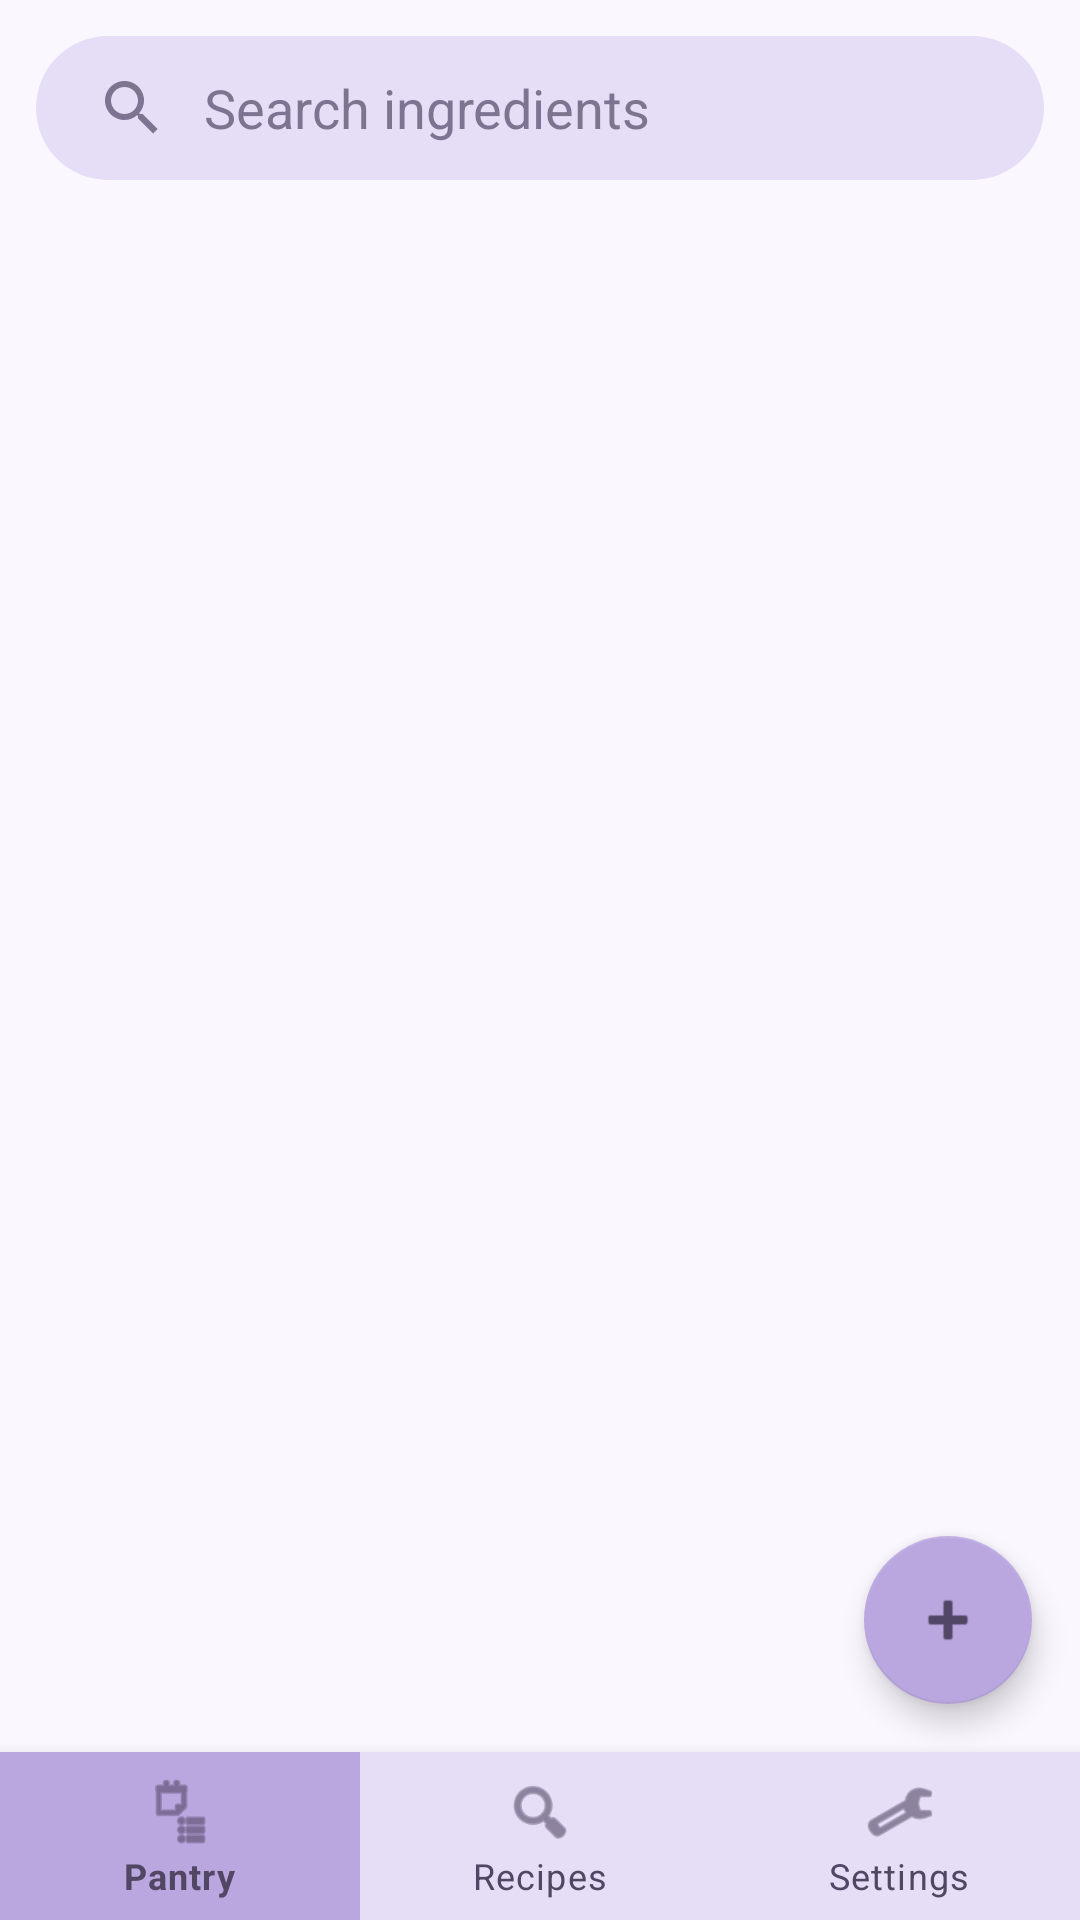

Where icons sit on this 1080w x 1920h app screen, as [x1, y1, x2, y2]:
Add ingredient: [864, 1536, 1032, 1704]
